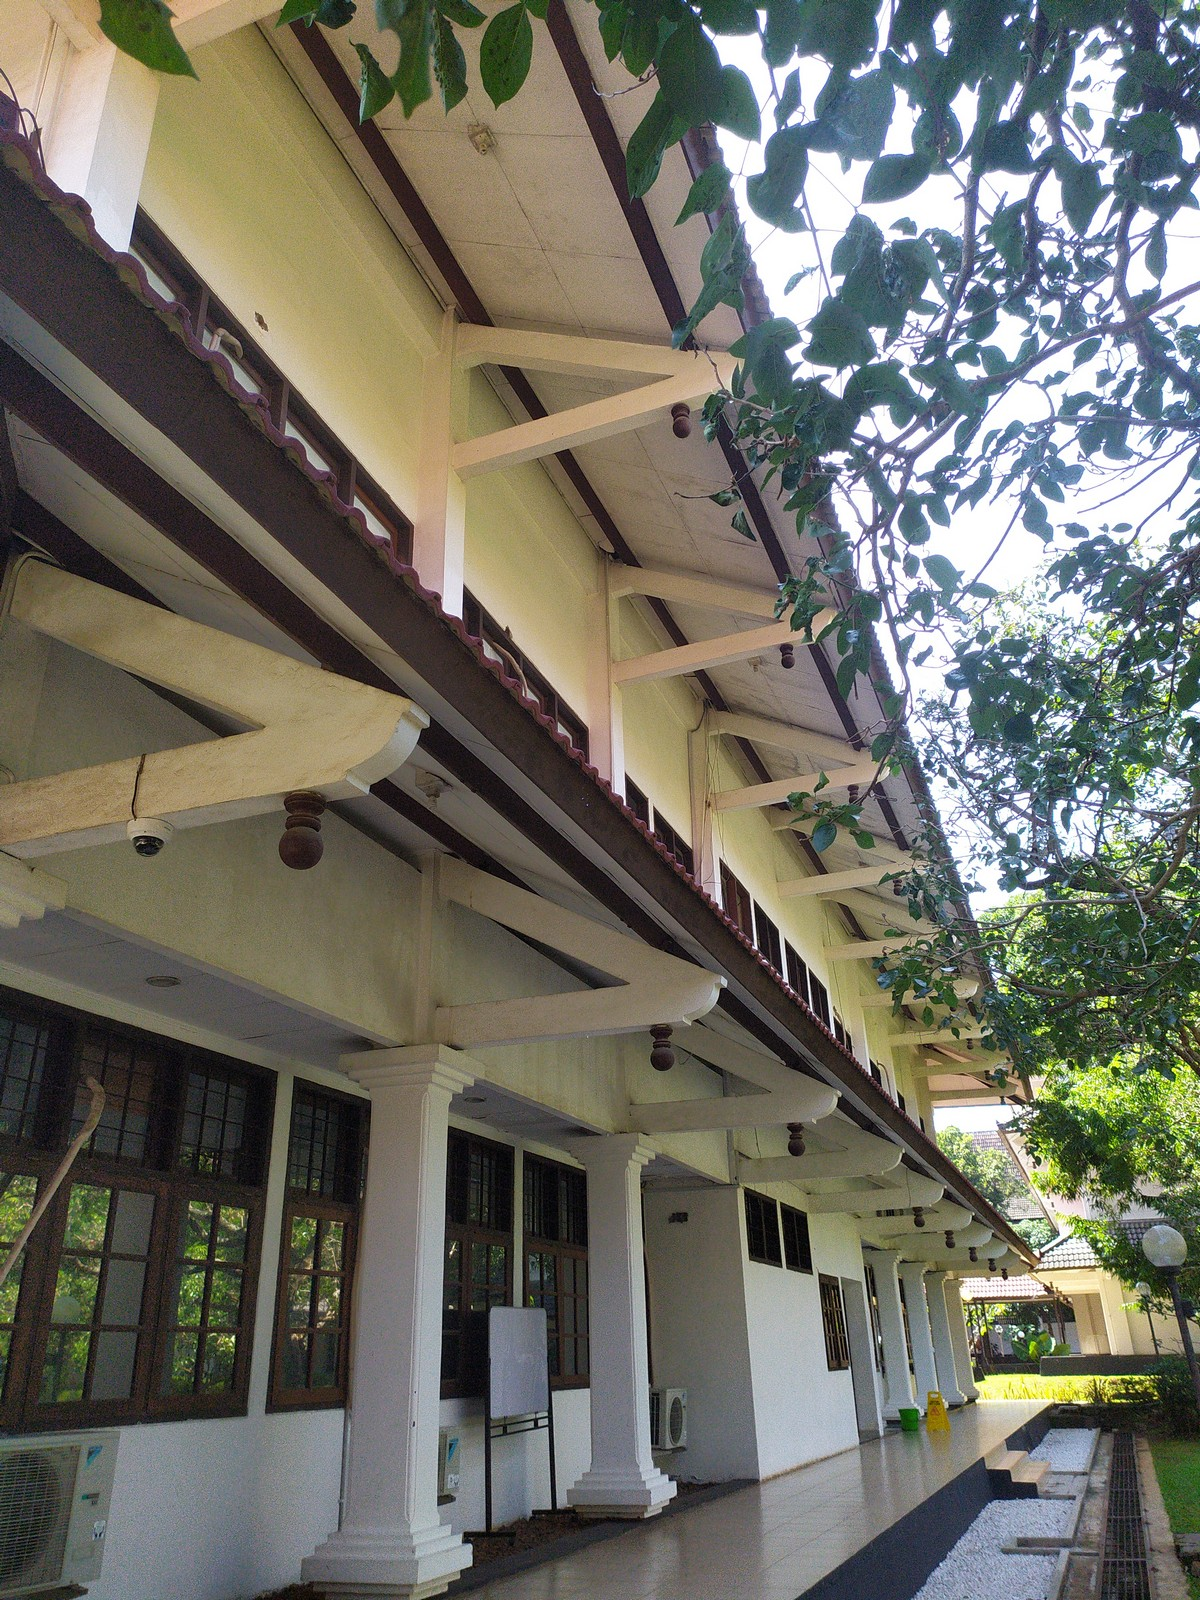concrete beam: (11, 740, 291, 867), (439, 393, 673, 496), (437, 984, 644, 1049), (599, 632, 761, 694), (623, 1091, 782, 1146)
concrete column: (329, 1086, 463, 1538), (579, 1163, 661, 1469), (411, 320, 482, 593), (582, 581, 632, 763)
